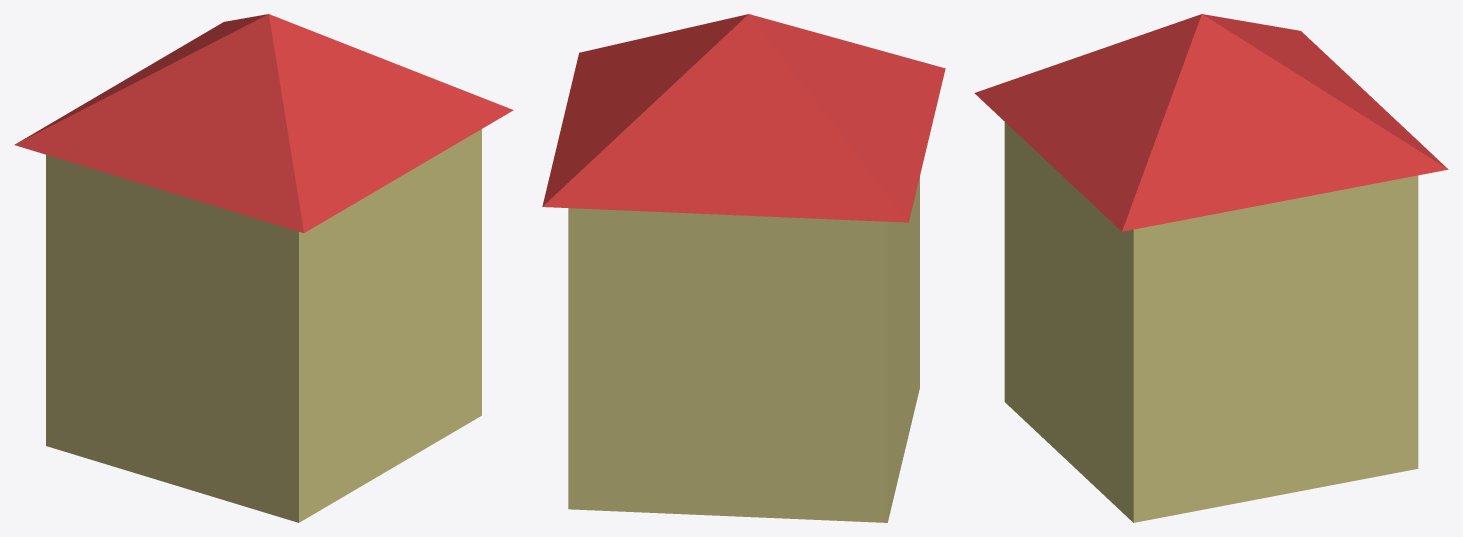
3 views of the same model, side by side, from view 1: azimuth 30°, elevation 25°; view 2: azimuth 150°, elevation 25°; view 3: azimuth 270°, elevation 25° (orthographic). The views are drawn at different scales.
Parts seen in each view (by area): view 1: group_5, group_3, group_4; view 2: group_5, group_3, group_4; view 3: group_5, group_3, group_4.
Part boxes in pixels (box(x1,y1,x2,y2)): group_5: box(46, 129, 481, 522); group_3: box(14, 14, 480, 232); group_4: box(16, 70, 513, 232); group_5: box(568, 177, 919, 522); group_3: box(542, 14, 945, 222); group_4: box(551, 47, 908, 222); group_5: box(1004, 122, 1418, 522); group_3: box(974, 14, 1448, 231); group_4: box(975, 29, 1364, 231).
Bounding box in the file's own units: 15.46 × 15.44 × 15.13.
